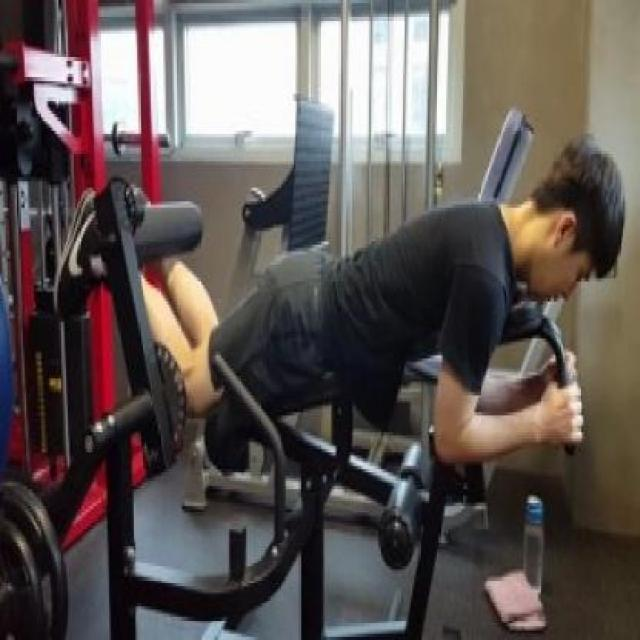reg curl machine: (48, 66, 629, 640)
